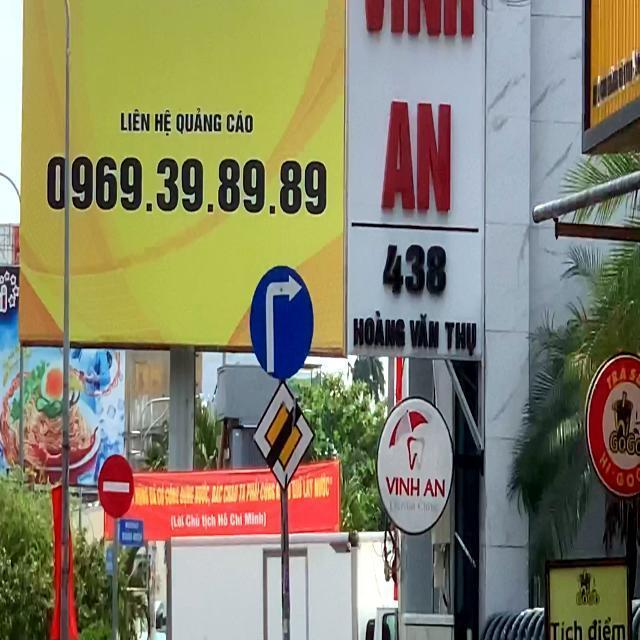102-cam-di-nguoc-chieu: (98, 456, 134, 518)
301d-cac-xe-chi-duoc-re-phai-2: (249, 263, 315, 379)
